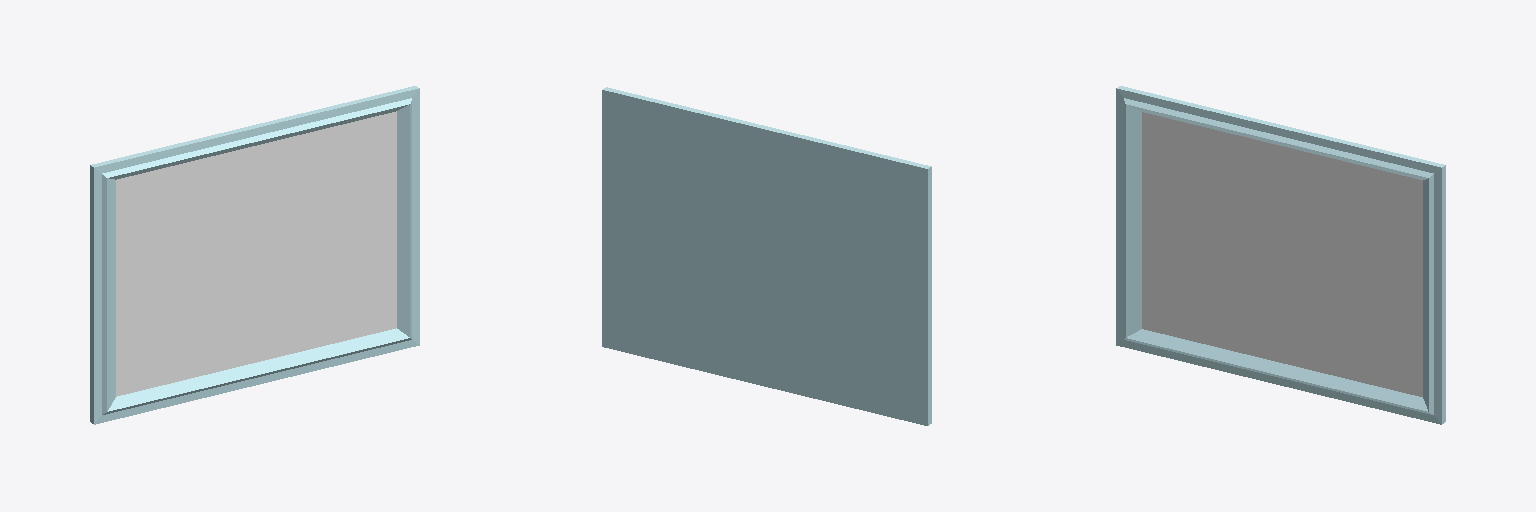
File: mirror.obj
3 renders of one model, left to right at view 1: azimuth 30°, elevation 25°; view 2: azimuth 150°, elevation 25°; view 3: azimuth 330°, elevation 25°, orthographic.
Parts seen in each view (by area): view 1: Box01; view 2: Box01; view 3: Box01.
Part boxes in pixels (left/top/right/bottom): Box01: left=90, top=86, right=419, bottom=424; Box01: left=602, top=87, right=931, bottom=425; Box01: left=1116, top=86, right=1445, bottom=424.
Bounding box in the file's own units: 6.69 × 5.06 × 0.2047.